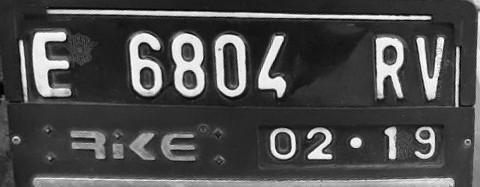0: (208, 29, 256, 103)
4: (253, 31, 306, 102)
6: (126, 32, 170, 98)
8: (168, 30, 210, 102)
E: (29, 27, 75, 100)
R: (371, 35, 412, 100)
V: (410, 34, 454, 100)
